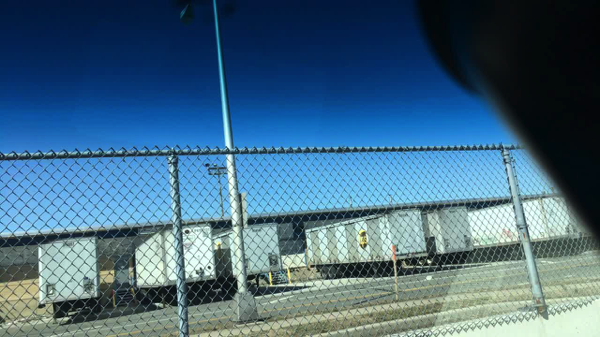truck: (303, 207, 428, 279), (466, 195, 580, 255), (133, 222, 216, 304), (38, 234, 102, 319), (209, 222, 282, 291), (419, 205, 474, 265)
